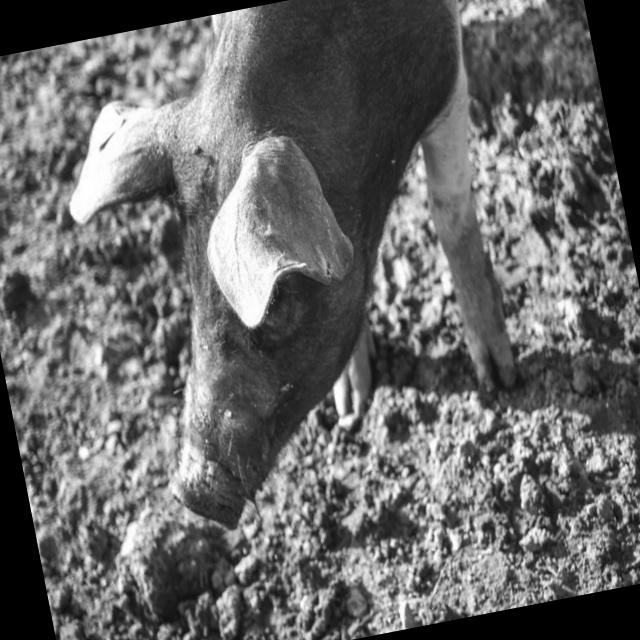pig: (69, 0, 516, 526)
